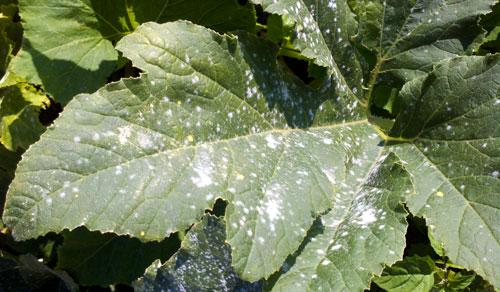Squash Powdery mildew leaf: (1, 1, 499, 286)
